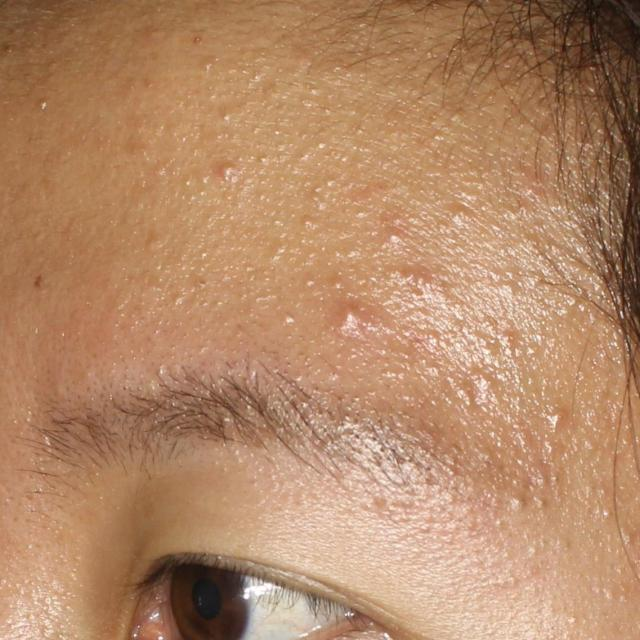blackhead: (196, 276, 210, 291)
